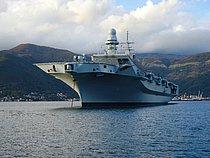MIL_Ship: (35, 27, 182, 110)
